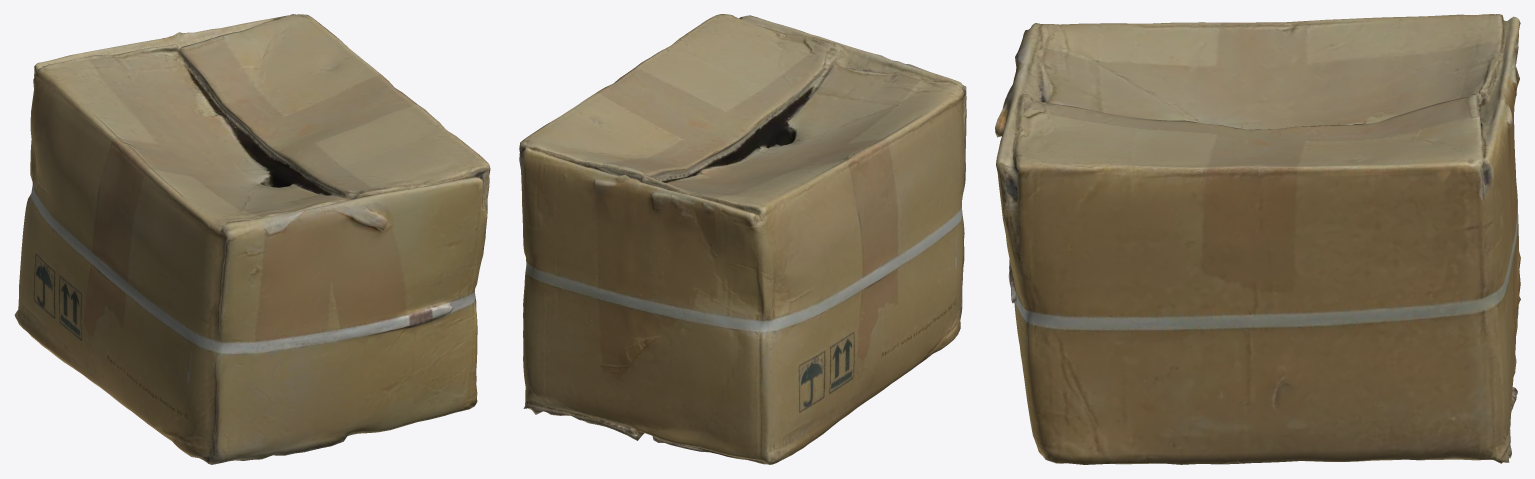
File: cardboard_box_01.glb
The picture shows the model from 3 angles, left to right: view 1: azimuth 30°, elevation 25°; view 2: azimuth 150°, elevation 25°; view 3: azimuth 270°, elevation 25°; orthographic projection. The views are drawn at different scales.
Visible parts, largest first — view 1: cardboard_box_01; view 2: cardboard_box_01; view 3: cardboard_box_01.
Boxes of the visible parts, x1,y1,x2,y2 form: cardboard_box_01: (14, 14, 490, 464); cardboard_box_01: (519, 14, 966, 464); cardboard_box_01: (995, 14, 1520, 464).
Bounding box in the file's own units: 0.387 × 0.3418 × 0.5159.
1 material, 1 textured.
